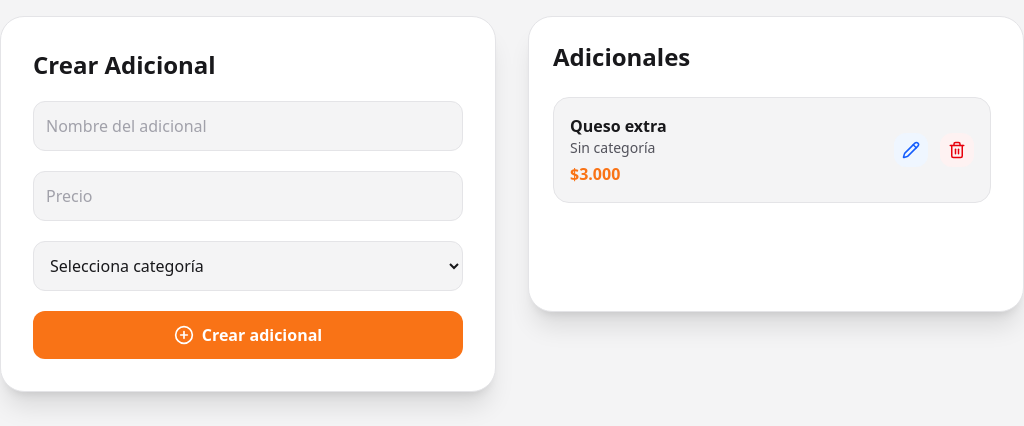
AdditionalsForm › renderiza adicionales existentes y permite borrar uno
Expected: the heading "Queso extra" is shown, [570,114,667,138]
Click the 2nd button at [957, 150], box [940,133,974,167]
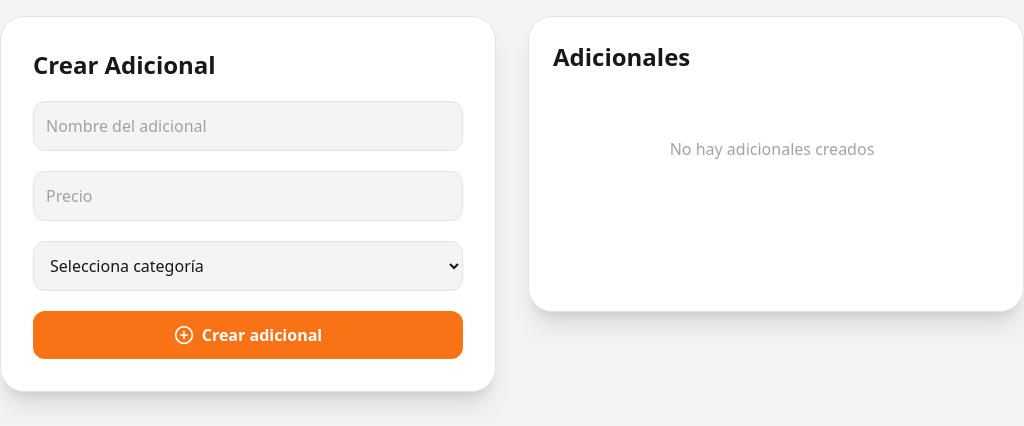
Result: the text "No hay adicionales creados" is shown at [670,138,874,160]
